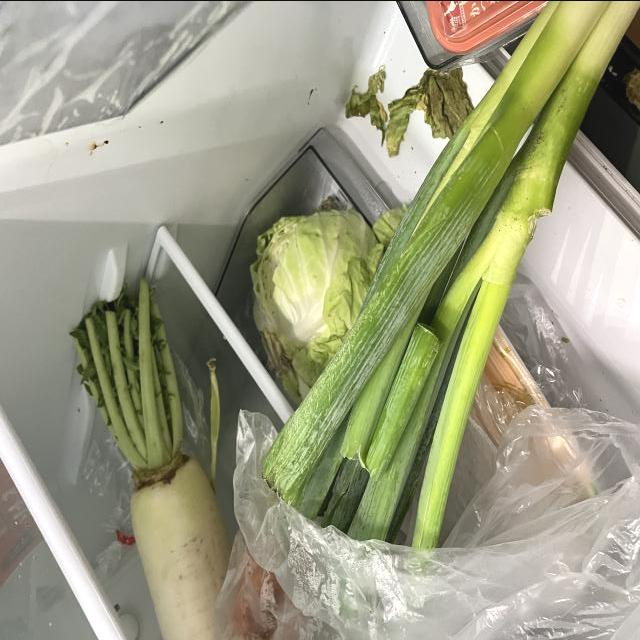cabbage: (249, 206, 385, 414)
onion: (259, 2, 640, 561)
